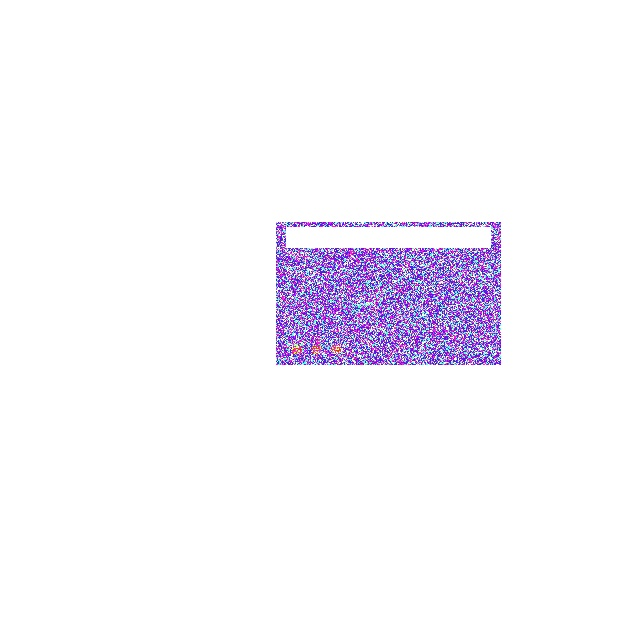Imprimante: (276, 222, 500, 365)
